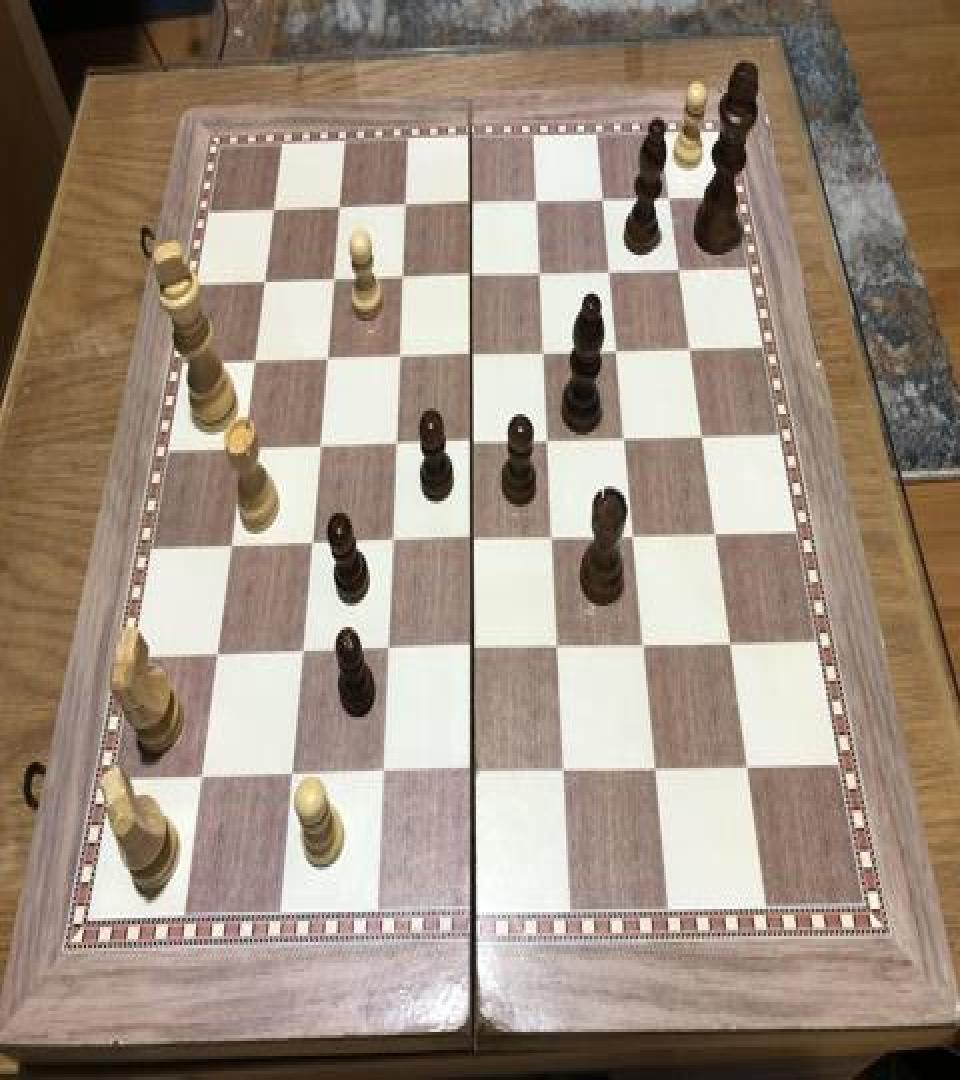xcorner: (544, 520, 568, 557), (464, 631, 488, 668), (206, 637, 230, 674), (660, 184, 684, 220), (594, 186, 618, 222), (528, 186, 552, 222), (397, 189, 421, 225), (331, 190, 355, 226), (265, 192, 289, 228), (670, 255, 694, 291), (601, 256, 625, 292), (532, 258, 556, 294), (394, 261, 418, 297), (325, 262, 349, 298), (256, 264, 280, 300), (681, 333, 705, 369), (608, 334, 632, 370), (536, 336, 560, 372), (463, 338, 487, 374), (390, 339, 414, 375), (318, 342, 342, 378), (693, 420, 717, 456), (616, 422, 640, 458), (540, 424, 564, 460), (463, 426, 487, 462), (387, 428, 411, 464), (310, 429, 334, 465), (706, 518, 730, 554), (625, 519, 649, 555), (463, 522, 487, 558), (382, 525, 406, 561), (301, 526, 325, 562), (220, 528, 244, 564), (722, 627, 746, 663), (636, 628, 660, 664), (550, 630, 574, 666), (378, 634, 402, 670), (292, 636, 316, 672), (739, 750, 763, 786), (647, 752, 671, 788), (556, 753, 580, 789), (464, 756, 488, 792), (373, 758, 397, 794), (281, 759, 305, 795), (189, 762, 213, 798), (462, 188, 486, 223), (463, 260, 487, 295), (245, 344, 269, 379), (233, 431, 257, 466)
